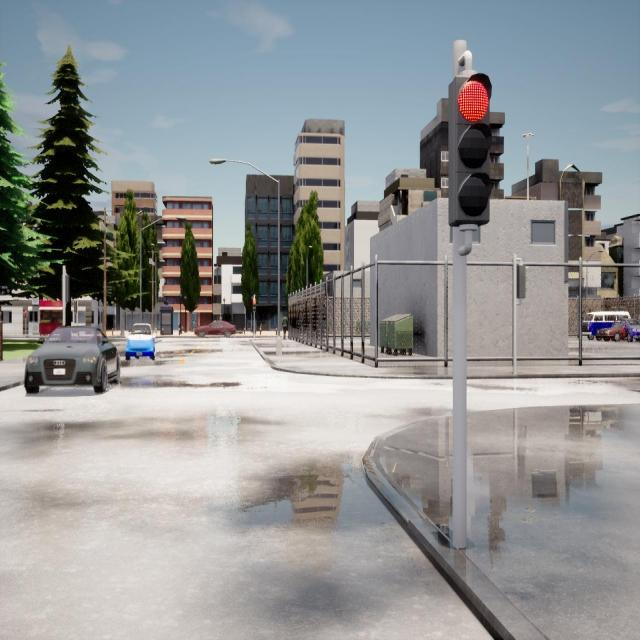Pedestrian: (281, 313, 288, 341)
Traffic_Signs: (25, 310, 28, 318)
Vehicle: (26, 326, 119, 393), (582, 311, 630, 340), (125, 323, 155, 361), (195, 320, 236, 338), (596, 324, 626, 341), (621, 318, 640, 341)
traffic_light: (448, 74, 492, 227), (516, 265, 526, 298), (66, 276, 70, 301), (252, 300, 256, 312), (74, 302, 77, 312)
